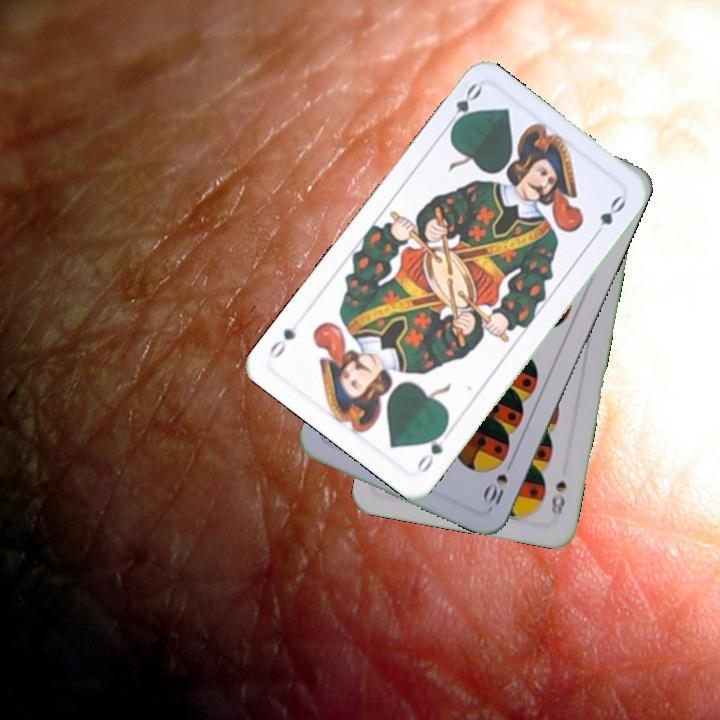GO: (441, 79, 485, 135), (412, 422, 450, 476)
S10: (479, 469, 511, 511)
S8: (546, 477, 569, 523)
